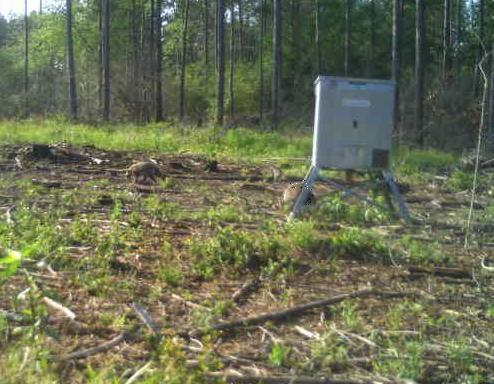Raccoon: (123, 157, 163, 192), (283, 181, 314, 209)
